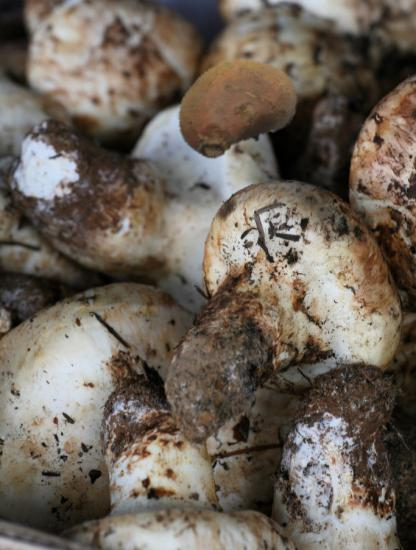Potato: (172, 40, 300, 168)
